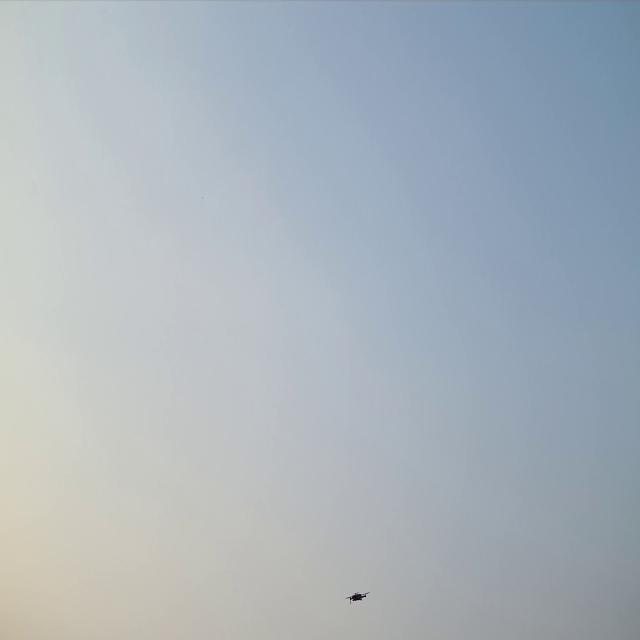UAV: (345, 589, 371, 607)
